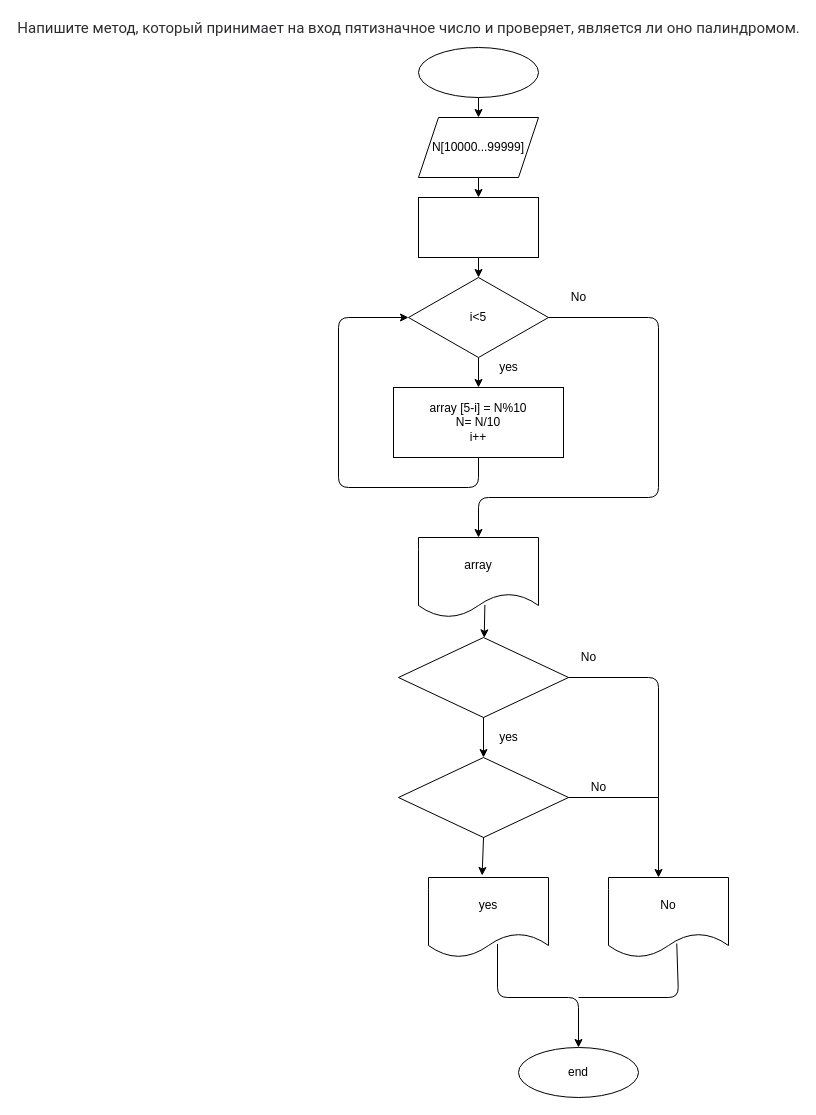
The diagram is 816 pixels wide and 1115 high, and some of its shapes have lost their labels. Each missing label, with the centre of its shape:
"array[0] ==array[4]" goes at (x=483, y=677).
"array[1] == array[3]" goes at (x=483, y=797).
"int[] array i=0" goes at (x=478, y=227).
"start" goes at (x=478, y=72).
